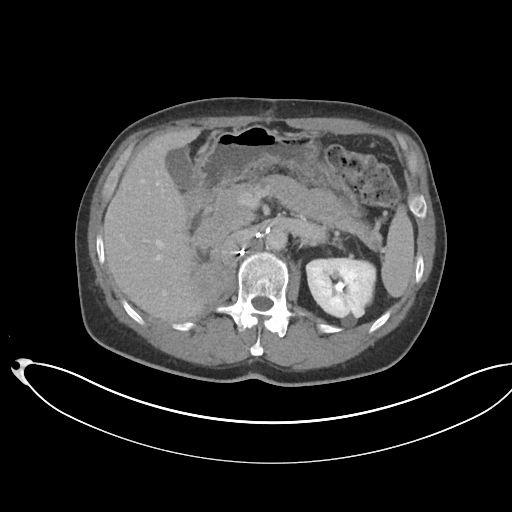Lesion: (338, 310, 360, 330)
